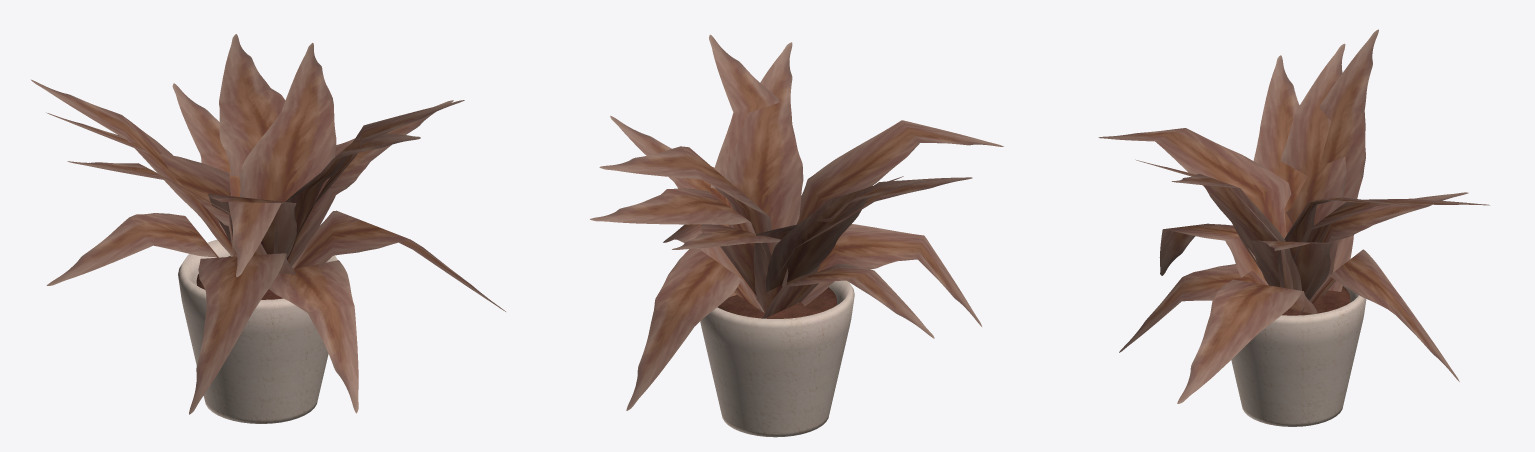
File: aloevera dead.FBX
3 views of the same model, side by side, from view 1: azimuth 30°, elevation 25°; view 2: azimuth 150°, elevation 25°; view 3: azimuth 270°, elevation 25° (orthographic). The views are drawn at different scales.
Visible parts, largest first — view 1: aloevera dead; view 2: aloevera dead; view 3: aloevera dead.
Boxes of the visible parts, x1,y1,x2,y2 form: aloevera dead: (31, 34, 505, 423); aloevera dead: (590, 34, 1003, 437); aloevera dead: (1098, 29, 1489, 426).
Bounding box in the file's own units: 1.02 × 0.8074 × 1.1.
